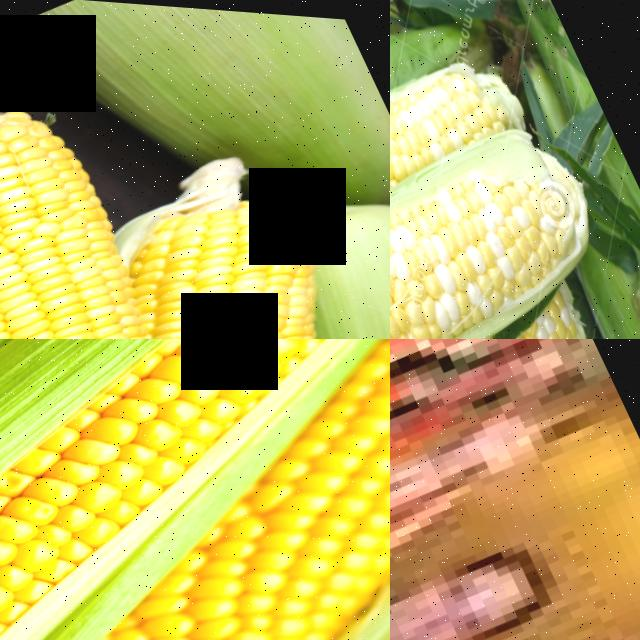corn: (0, 339, 390, 640), (0, 441, 390, 640), (0, 69, 255, 339), (390, 108, 621, 339), (106, 168, 390, 339), (390, 15, 538, 339)
